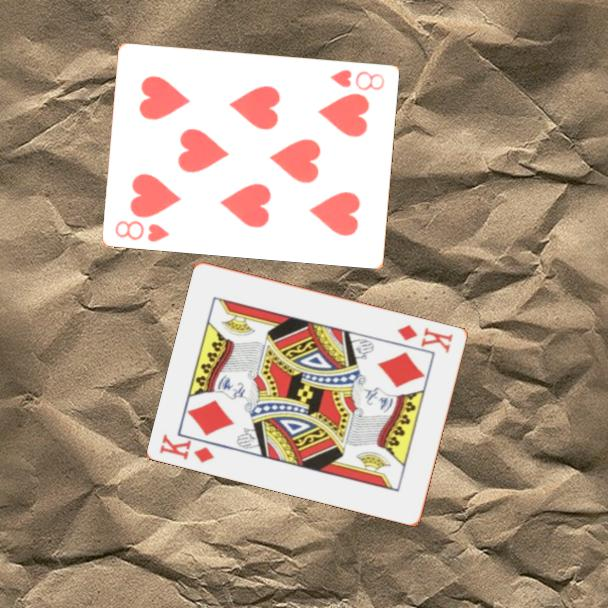d13: (156, 430, 218, 466), (394, 321, 456, 356)
h08: (327, 66, 388, 93), (112, 217, 173, 244)
